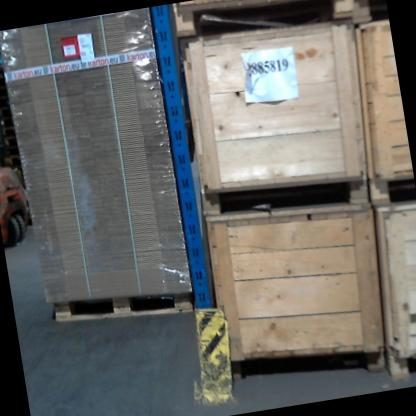forklift: (0, 158, 35, 251)
pallet: (50, 279, 195, 335)
